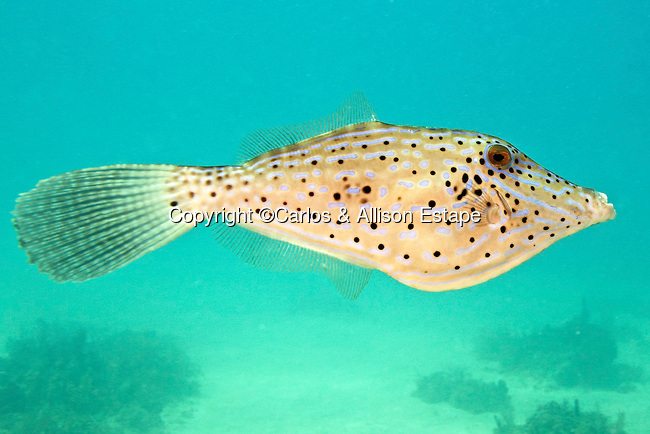Aluterus_scriptus: (13, 89, 617, 301)
